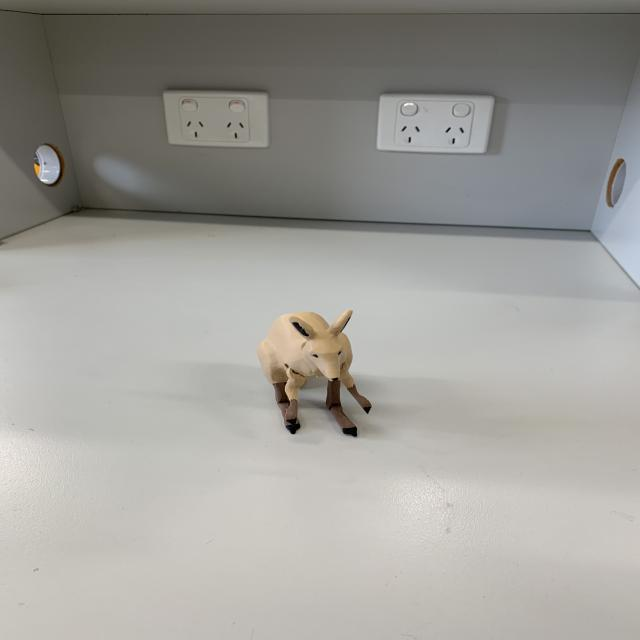kangaroo: (256, 311, 361, 439)
